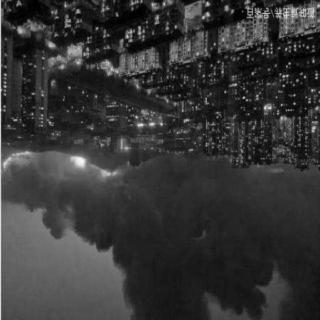other: (180, 4, 204, 40)
